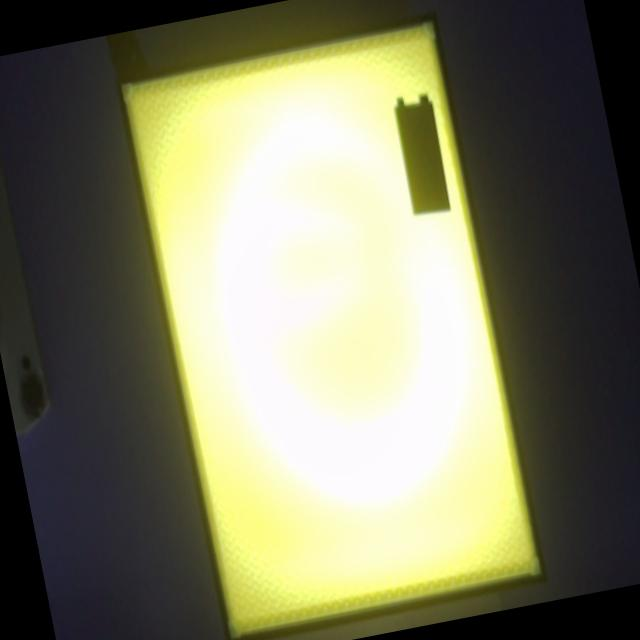bateria: (394, 94, 453, 218)
mesa: (114, 12, 548, 640)
